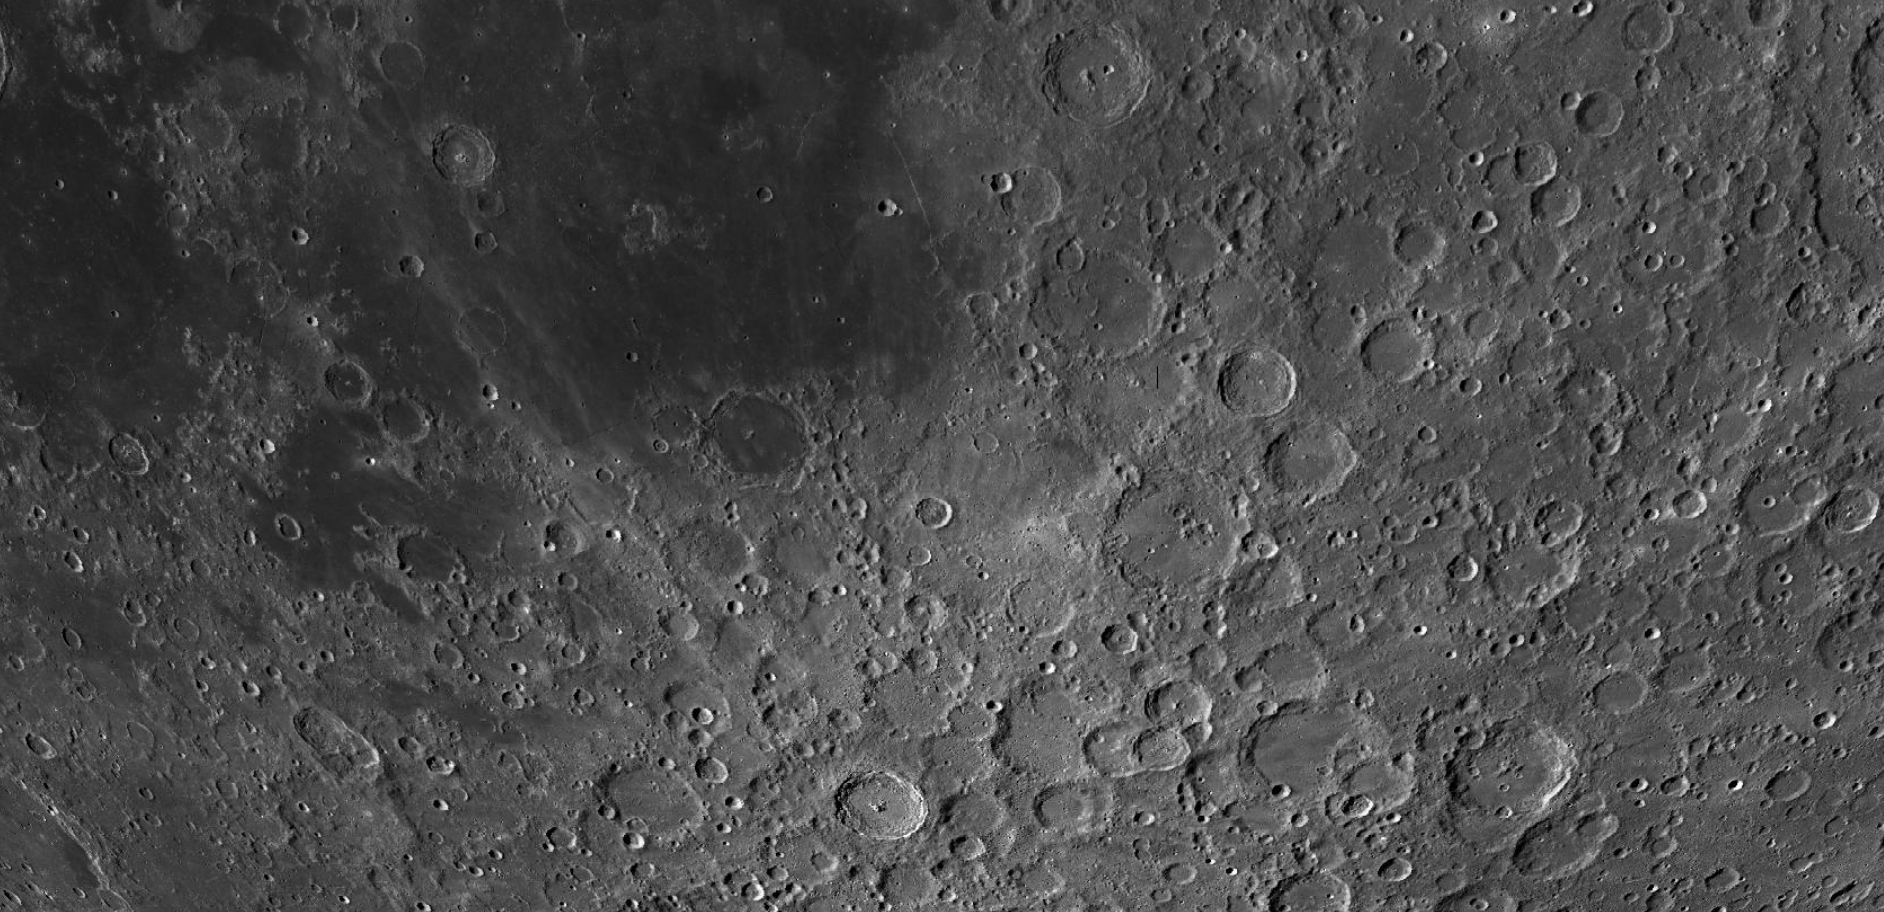crater: (687, 378, 843, 507), (1023, 18, 1173, 141), (1436, 715, 1580, 825), (399, 106, 523, 226), (813, 756, 940, 852), (713, 155, 813, 270), (1254, 415, 1369, 509), (1188, 336, 1308, 424), (1572, 658, 1655, 729), (312, 351, 378, 424), (1614, 1, 1686, 66), (266, 502, 317, 550), (392, 239, 439, 285), (956, 421, 1004, 461)
